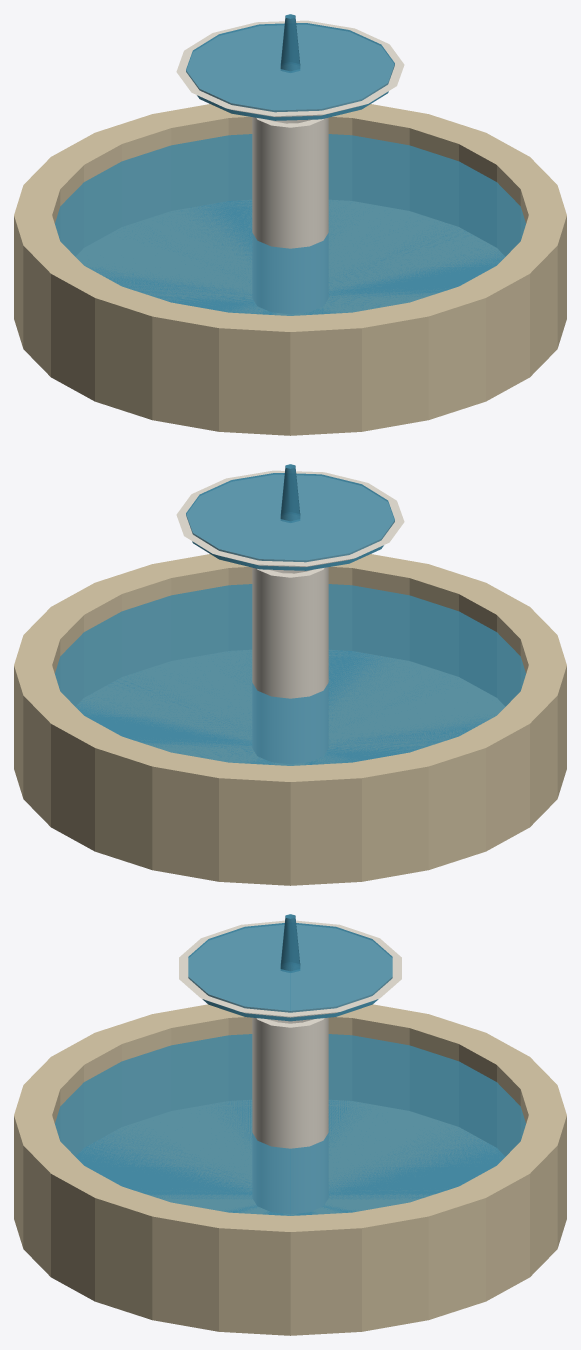
File: im_fountain.glb
3 renders of one model, top to bottom at view 1: azimuth 30°, elevation 25°; view 2: azimuth 150°, elevation 25°; view 3: azimuth 270°, elevation 25°, orthographic.
Visible parts, largest first — view 1: im_fountain; view 2: im_fountain; view 3: im_fountain.
Boxes of the visible parts, x1,y1,x2,y2 form: im_fountain: (14, 14, 566, 435); im_fountain: (14, 464, 566, 885); im_fountain: (14, 914, 566, 1335).
Bounding box in the file's own units: 2.9 × 1.75 × 2.9.
